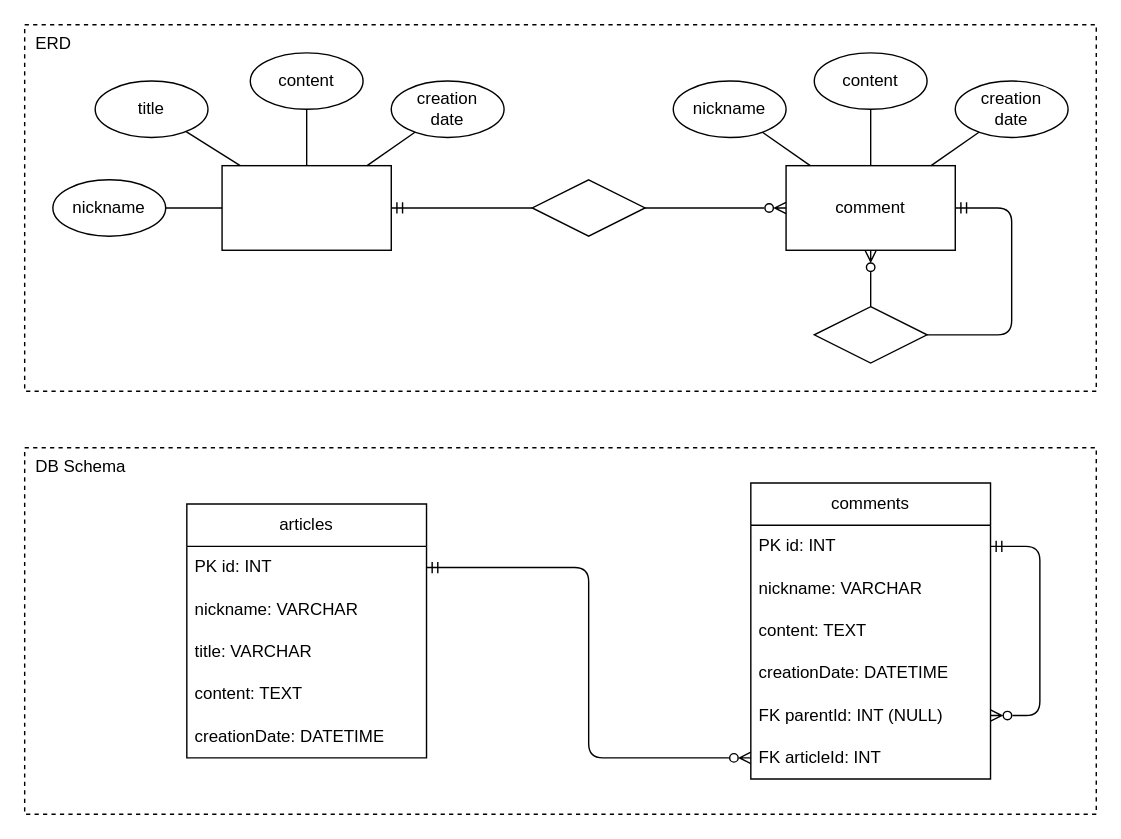
Image size: 1121x839. Some labels were removed from this diagram. The centre of each missing label's shape, as x and y in pixels:
"article" belongs at point 306,207.
"has" belongs at point 588,207.
"parent" belongs at point 870,334.
